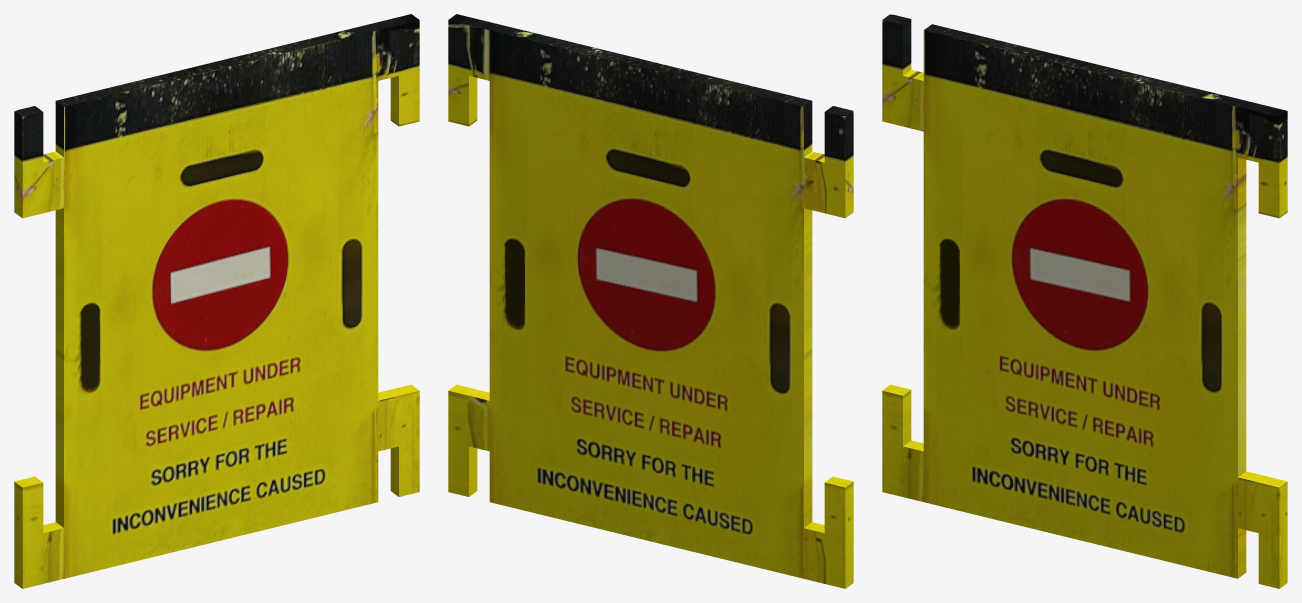
File: props_barricade_service_repair.fbx
3 renders of one model, left to right at view 1: azimuth 30°, elevation 25°; view 2: azimuth 150°, elevation 25°; view 3: azimuth 330°, elevation 25°, orthographic.
Parts seen in each view (by area): view 1: barricade_service_repair_geo; view 2: barricade_service_repair_geo; view 3: barricade_service_repair_geo.
Boxes of the visible parts, bbox=[...] form: barricade_service_repair_geo: bbox=[14, 14, 419, 588]; barricade_service_repair_geo: bbox=[448, 14, 853, 588]; barricade_service_repair_geo: bbox=[882, 14, 1287, 588].
Size of the model in its own units: 90.62 by 103 by 3.3.
